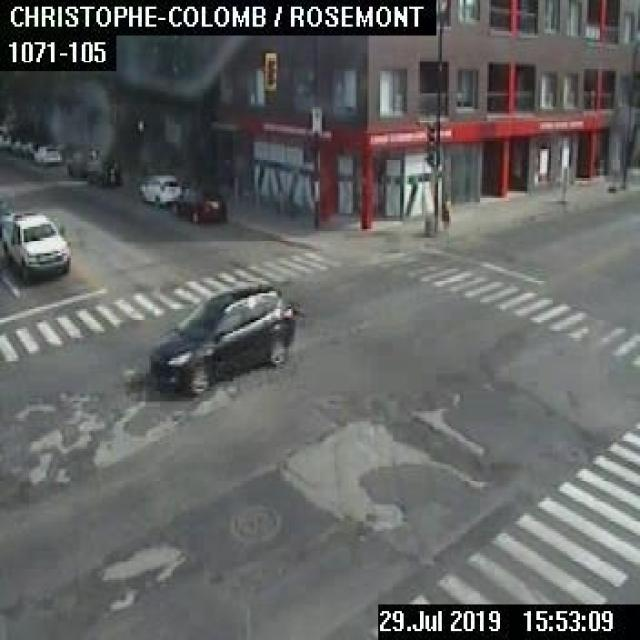vehicle: (149, 282, 292, 395), (0, 211, 69, 278), (171, 186, 224, 222), (138, 174, 180, 207), (87, 160, 120, 187), (66, 154, 91, 176), (32, 144, 59, 162), (21, 140, 37, 157), (10, 138, 24, 153), (0, 134, 13, 148)
